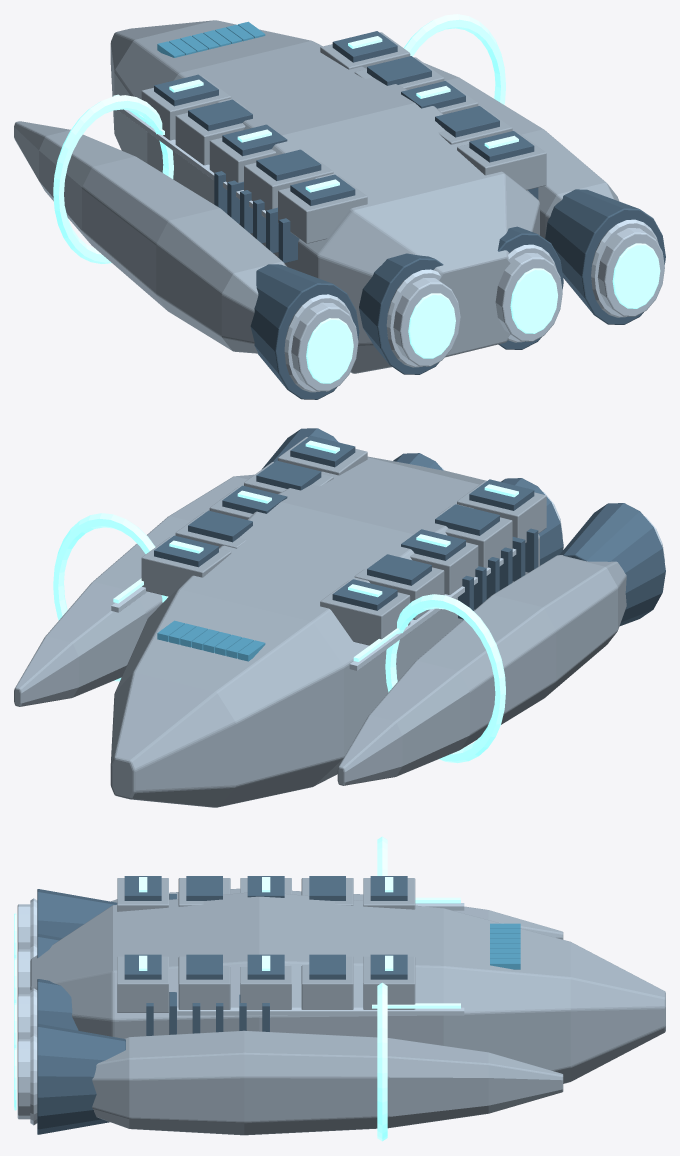
File: support_weaver.glb
3 renders of one model, top to bottom at view 1: azimuth 30°, elevation 25°; view 2: azimuth 150°, elevation 25°; view 3: azimuth 270°, elevation 25°, orthographic. The views are drawn at different scales.
Visible parts, largest first — view 1: council_hull.003, council_dark.003, council_glow.003, council_trim.003, council_glass.003; view 2: council_hull.003, council_dark.003, council_glow.003, council_glass.003, council_trim.003; view 3: council_hull.003, council_dark.003, council_trim.003, council_glow.003, council_glass.003.
Boxes of the visible parts, box(x1,y1,x2,y2) form: council_hull.003: box(14, 20, 618, 373); council_dark.003: box(154, 31, 665, 399); council_glow.003: box(53, 14, 660, 383); council_trim.003: box(118, 109, 664, 392); council_glass.003: box(157, 21, 265, 57); council_hull.003: box(14, 437, 626, 807); council_dark.003: box(154, 428, 665, 626); council_glow.003: box(53, 440, 518, 763); council_glass.003: box(157, 620, 265, 661); council_trim.003: box(111, 442, 664, 670); council_hull.003: box(30, 878, 665, 1135); council_dark.003: box(37, 876, 407, 1134); council_trim.003: box(17, 898, 464, 1125); council_glow.003: box(14, 836, 460, 1141); council_glass.003: box(490, 923, 520, 969).
Bounding box in the file's own units: 65 × 28 × 90.
